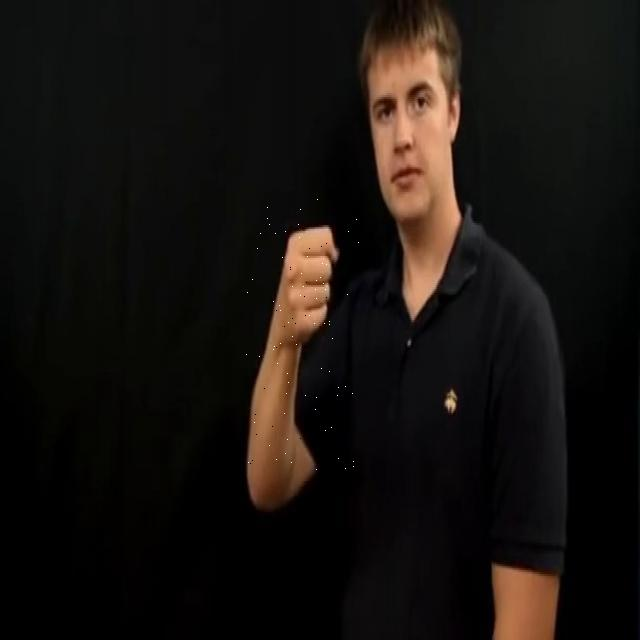milk: (247, 194, 361, 470)
